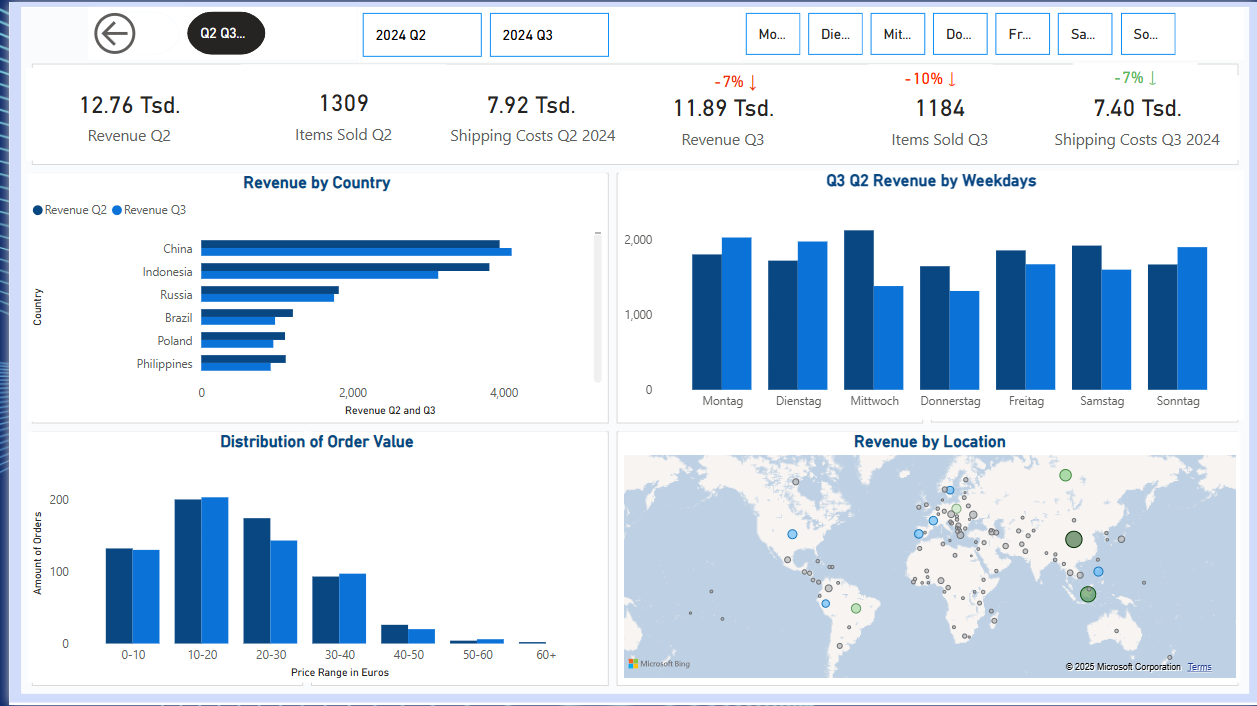

What the dashboard file says about the page in this screenshot:
{"tool":"powerbi","page":{"name":"Quarter Comparison","canvas":[1280,720],"ordinal":1},"visuals":[{"type":"advancedSlicerVisual","fields":{"Values":["cust_order.YearQuarter"]},"box":[357.1,6.4,392.2,55.3],"z":0},{"type":"card","fields":{"Values":["Kategorien.Summe Preis Q2"]},"box":[17.5,67.5,211.2,95],"z":1000},{"type":"card","fields":{"Values":["Kategorien.Total Shipping Costs Q2 2024"]},"box":[428.7,67.6,211.7,94.8],"z":2000},{"type":"card","fields":{"Values":["Kategorien.Total Shipping Costs Q3 2024"]},"box":[1049.6,75.3,211.7,87],"z":3000},{"type":"card","title":"Items Sold","fields":{"Values":["Kategorien.Sold ITEMS Q2"]},"box":[237.7,63.7,210.4,98.7],"z":4000},{"type":"card","fields":{"Values":["Kategorien.Anzahl Line ID Q3"]},"box":[857.6,81.8,192.4,74.4],"z":5000},{"type":"hundredPercentStackedBarChart","fields":{"Category":["cust_order.YearQuarter"]},"box":[18,175,227,265],"z":6000},{"type":"advancedSlicerVisual","fields":{"Values":["Wochentage.Tag"]},"box":[749.6,6.5,515.7,53.3],"z":7000},{"type":"clusteredColumnChart","title":"Distribution of Order Value","fields":{"Y":["MEASURESs.Anzahl Bestellungen Q2 2024","MEASURESs.Anzahl Bestellungen Q3 2024"],"Category":["Kategorien.Kategorie"]},"box":[18.2,440.4,593.7,257.2],"z":8000},{"type":"card","fields":{"Values":["Kategorien.Summe Preis Q3"]},"box":[626.1,75.3,210.4,87],"z":9000},{"type":"map","title":"Revenue by Location","fields":{"Category":["country.country_name"],"Size":["Sum(order_line.price)"]},"box":[624.8,440.4,636.5,279.3],"z":10000},{"type":"advancedSlicerVisual","fields":{"Values":["cust_order.Q2 Q3 2024"]},"box":[90.3,5.3,266.8,54.2],"z":12000},{"type":"card","fields":{"Values":["Customers2024Q2.Sales MoM %"]},"box":[680,67.1,128.6,28.6],"z":13000},{"type":"card","fields":{"Values":["address.change Item Sold"]},"box":[880,63.8,127.5,23.8],"z":14000},{"type":"card","fields":{"Values":["Customers2024Q2.Change Anzahl Shipping"]},"box":[1090,62.5,127.5,25],"z":15000},{"type":"clusteredBarChart","title":"Revenue by Country","fields":{"Category":["country.country_name"],"Y":["Kategorien.Summe Preis Q2","Kategorien.Summe Preis Q3"]},"box":[18.2,175.4,593.7,266.3],"z":16000},{"type":"actionButton","box":[81.8,5.3,99.9,54.2],"z":17000},{"type":"clusteredColumnChart","title":"Q3 Q2 Revenue by Weekdays","fields":{"Category":["Wochentage.Tag"],"Y":["Kategorien.Summe Preis Q3","Kategorien.Summe Preis Q2"]},"box":[624.8,172.8,640.4,255.9],"z":19000}]}

Visuals, with their boxes in screenshot pixels (x1, y1, x2, y2), scaled from the page's 1280x720 canvas onto the 1257x706 screenshot:
advancedSlicerVisual - cust_order.YearQuarter: locate(351, 6, 736, 61)
card - Kategorien.Summe Preis Q2: locate(17, 66, 225, 159)
card - Kategorien.Total Shipping Costs Q2 2024: locate(421, 66, 629, 159)
card - Kategorien.Total Shipping Costs Q3 2024: locate(1031, 74, 1239, 159)
"Items Sold" card: locate(233, 62, 440, 159)
card - Kategorien.Anzahl Line ID Q3: locate(842, 80, 1031, 153)
hundredPercentStackedBarChart - cust_order.YearQuarter: locate(18, 172, 241, 431)
advancedSlicerVisual - Wochentage.Tag: locate(736, 6, 1243, 59)
"Distribution of Order Value" clusteredColumnChart: locate(18, 432, 601, 684)
card - Kategorien.Summe Preis Q3: locate(615, 74, 821, 159)
"Revenue by Location" map: locate(614, 432, 1239, 705)
advancedSlicerVisual - cust_order.Q2 Q3 2024: locate(89, 5, 351, 58)
card - Customers2024Q2.Sales MoM %: locate(668, 66, 794, 94)
card - address.change Item Sold: locate(864, 63, 989, 86)
card - Customers2024Q2.Change Anzahl Shipping: locate(1070, 61, 1196, 86)
"Revenue by Country" clusteredBarChart: locate(18, 172, 601, 433)
actionButton: locate(80, 5, 178, 58)
"Q3 Q2 Revenue by Weekdays" clusteredColumnChart: locate(614, 169, 1242, 420)
